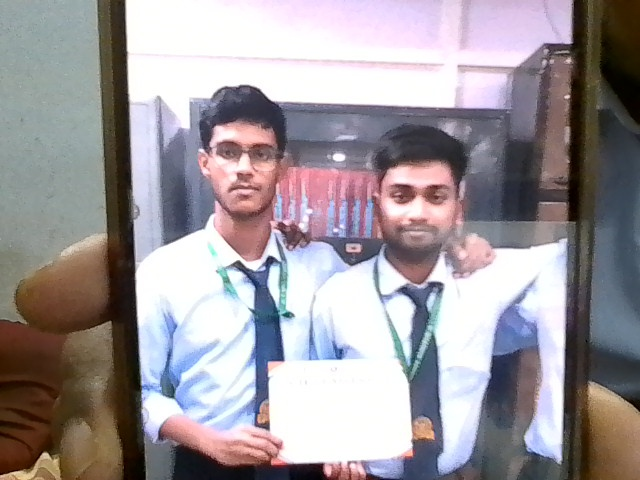real: (360, 116, 469, 270), (189, 81, 295, 232)
